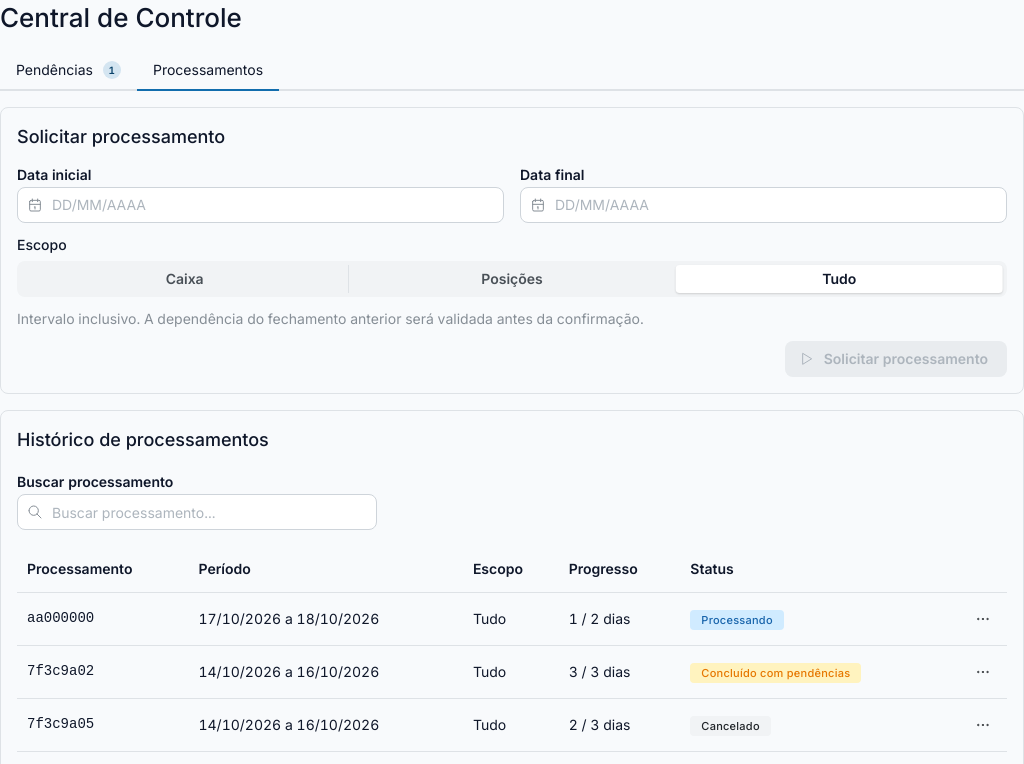
Test: Processamentos: details (§11.1, §10.4) › §10.4 follows a running job: the date being processed, progress and the cancel actions
Click the button named "Ações do processamento" at (983, 619), box left=969, top=605, right=997, bottom=633
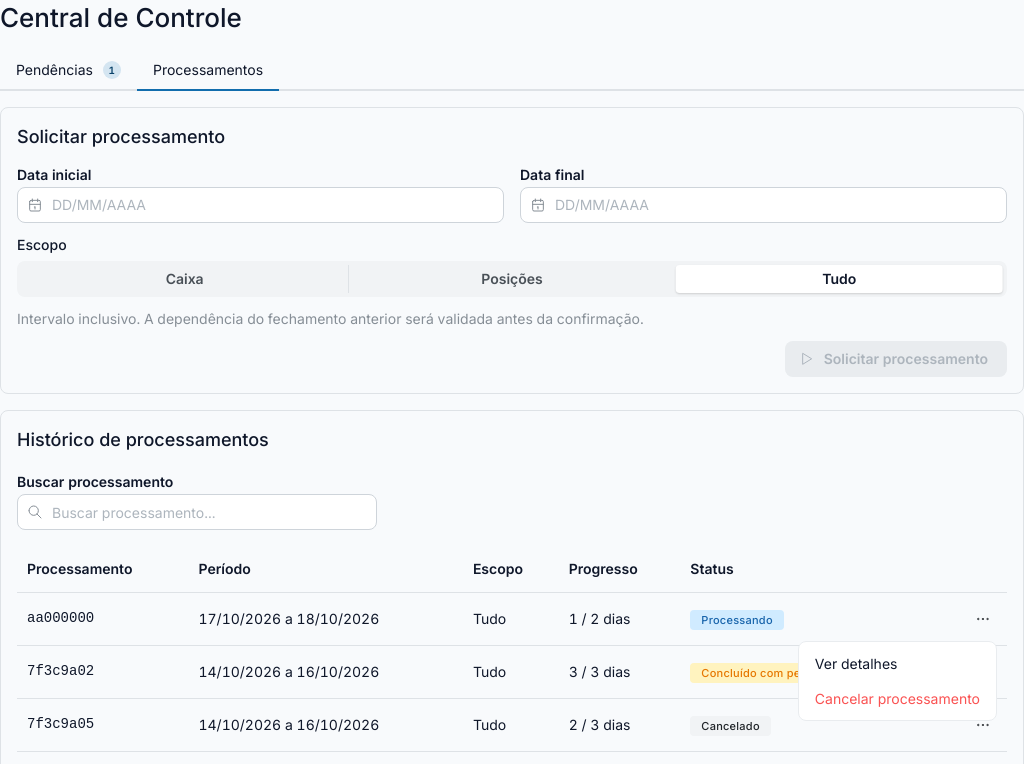
Click the menu item "Ver detalhes" at (897, 663), box left=803, top=646, right=992, bottom=681
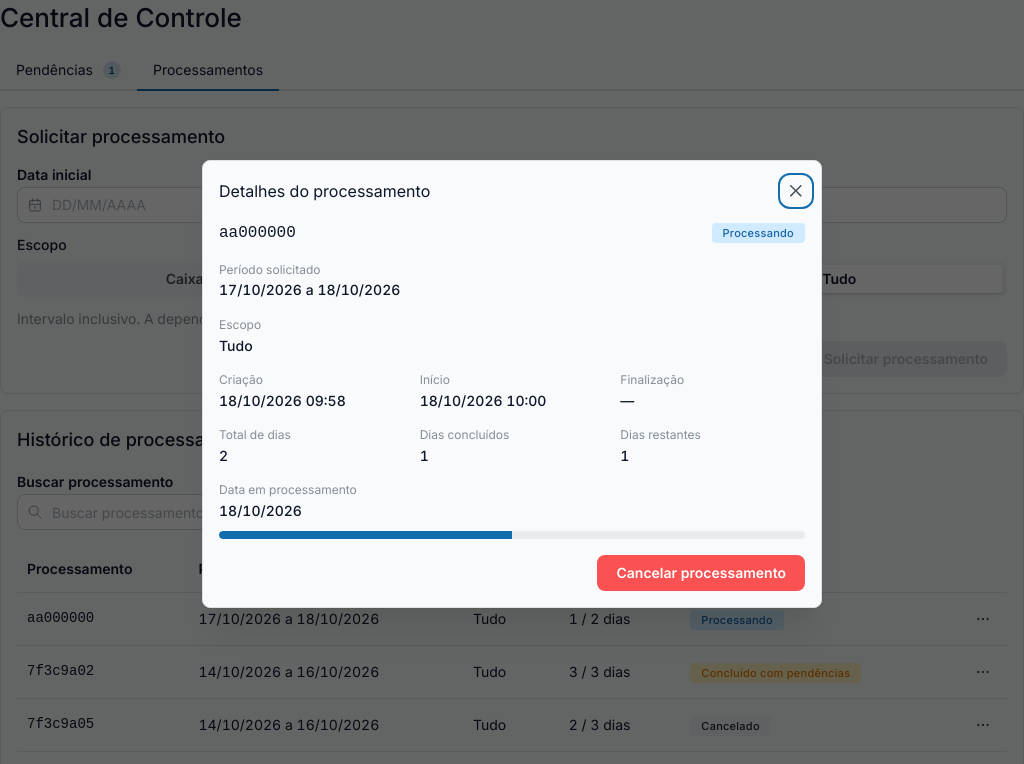
Now the text "18/10/2026" is shown, box left=219, top=502, right=302, bottom=519
Now the text "18/10/2026 09:58" is shown, box left=219, top=392, right=346, bottom=409
Now the text "18/10/2026 10:00" is shown, box left=420, top=392, right=546, bottom=409
